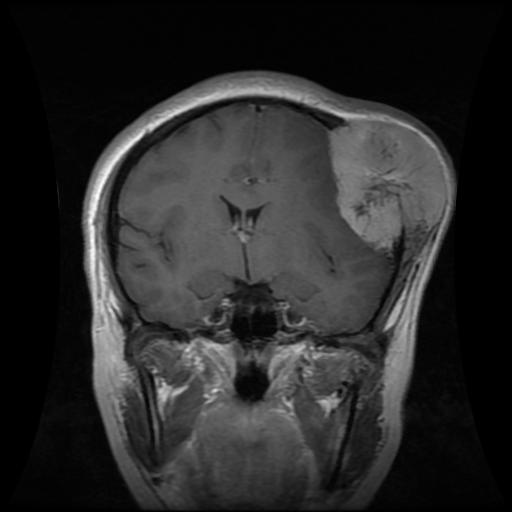Menigiomia_tumour: (328, 119, 446, 248)
